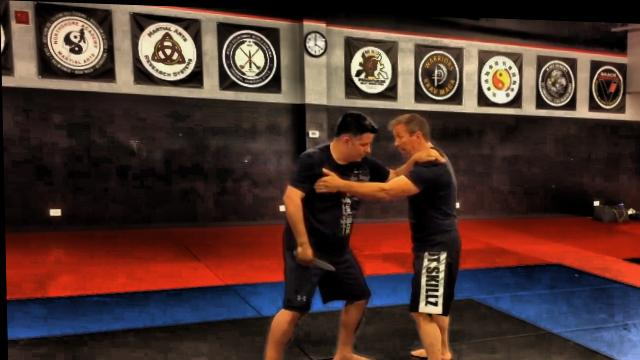knife: (290, 247, 335, 269)
